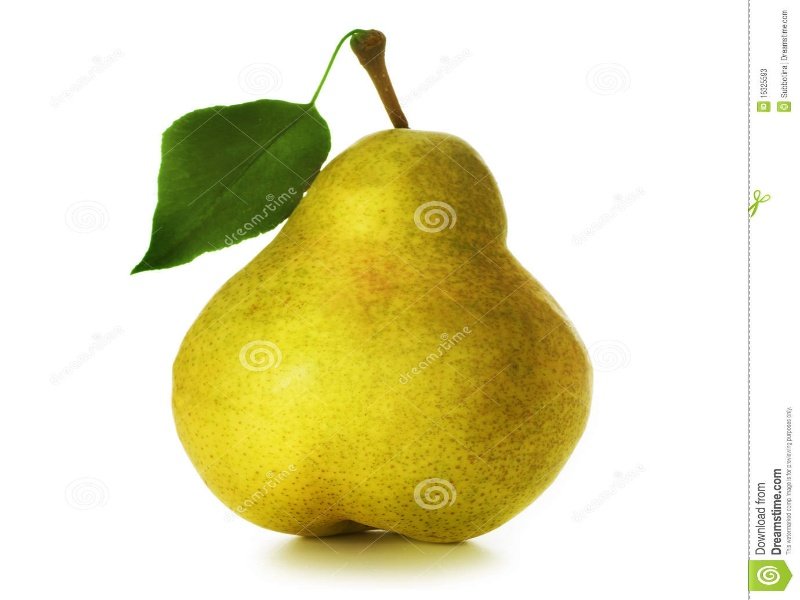Pera: (171, 32, 590, 543)
